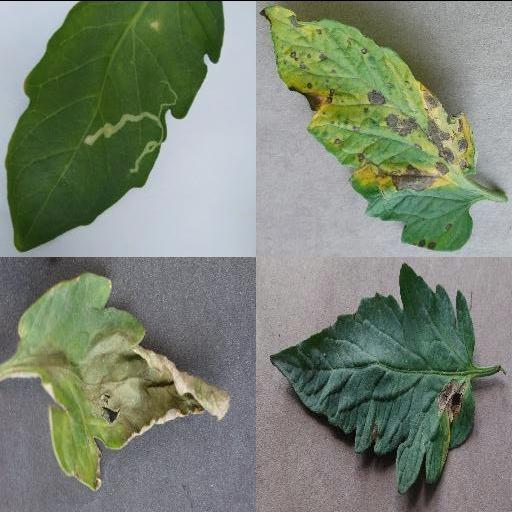Early Blight: (261, 4, 477, 250), (270, 262, 478, 494)
Late Blight: (17, 271, 231, 489)
Leaf Miner: (2, 0, 224, 251)
